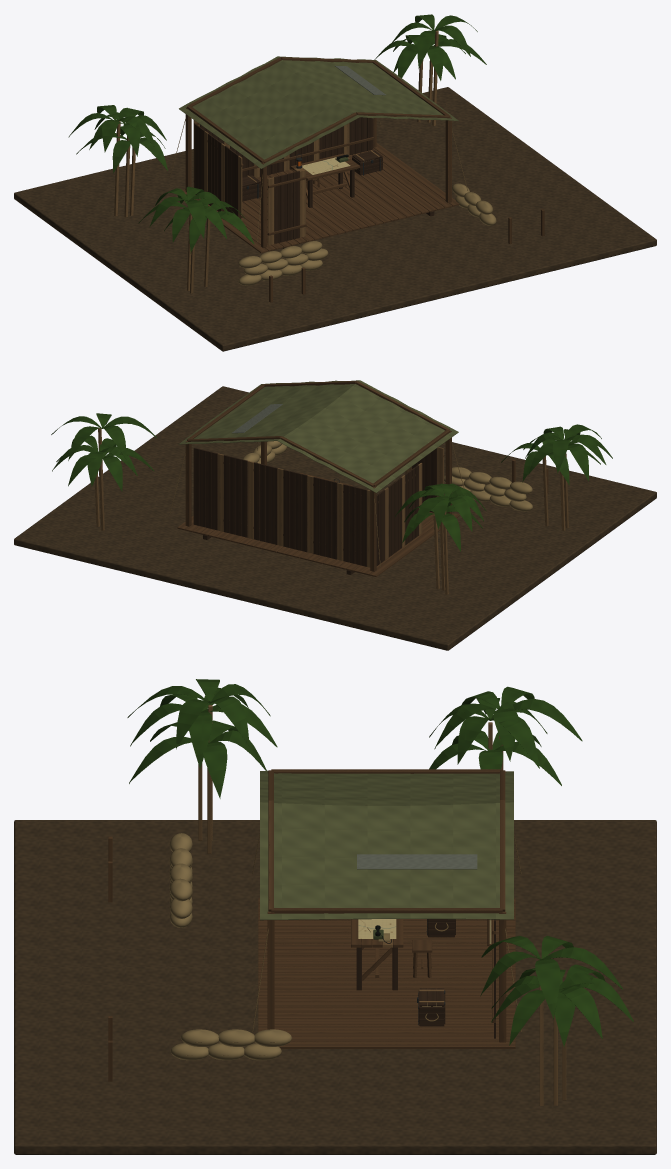
Rendered from C3_CommandOutpost.fbx.
3 renders of one model, top to bottom at view 1: azimuth 30°, elevation 25°; view 2: azimuth 150°, elevation 25°; view 3: azimuth 270°, elevation 25°, orthographic. The views are drawn at different scales.
Visible parts, largest first — view 1: Earth diorama base.002, Sagging canvas roof.002, Raised floor plank.073, Timber roof post.010, Raised floor plank.072, Timber roof post.009, Wall board.167, Raised floor plank.071; view 2: Earth diorama base.002, Sagging canvas roof.002, Raised floor plank.048, Timber roof post.011, Timber roof post.009, Wall board.140, Wall board.148, Wall board.149, Wall board.150, Wall board.141, Wall board.142, Wall board.147 (+26 smaller); view 3: Earth diorama base.002, Sagging canvas roof.002, Raised floor plank.073, Raised floor plank.072, Raised floor plank.061, Raised floor plank.069, Raised floor plank.065, Raised floor plank.057, Raised floor plank.070, Long eave rail.005, Raised floor plank.062, Raised floor plank.063 (+28 smaller).
Part boxes in pixels (x1,y1,x2,y2): Earth diorama base.002: (14, 87, 656, 351); Sagging canvas roof.002: (179, 56, 458, 168); Raised floor plank.073: (374, 143, 459, 206); Timber roof post.010: (445, 117, 451, 202); Raised floor plank.072: (367, 148, 452, 208); Timber roof post.009: (185, 107, 191, 191); Wall board.167: (267, 177, 274, 245); Raised floor plank.071: (360, 151, 444, 210); Earth diorama base.002: (14, 386, 656, 650); Sagging canvas roof.002: (178, 380, 458, 492); Raised floor plank.048: (369, 513, 459, 576); Timber roof post.011: (185, 441, 191, 526); Timber roof post.009: (370, 486, 376, 571); Wall board.140: (265, 465, 271, 543); Wall board.148: (217, 453, 223, 531); Wall board.149: (211, 452, 217, 530); Wall board.150: (205, 450, 211, 528); Wall board.141: (259, 463, 265, 541); Wall board.142: (253, 462, 259, 540); Wall board.147: (223, 455, 229, 533); Earth diorama base.002: (14, 820, 656, 1154); Sagging canvas roof.002: (260, 770, 513, 920); Raised floor plank.073: (279, 1041, 515, 1048); Raised floor plank.072: (290, 1035, 515, 1041); Raised floor plank.061: (258, 972, 515, 978); Raised floor plank.069: (258, 1018, 513, 1024); Raised floor plank.065: (258, 995, 515, 1001); Raised floor plank.057: (258, 949, 515, 955); Raised floor plank.070: (258, 1024, 512, 1029); Long eave rail.005: (271, 908, 502, 913); Raised floor plank.062: (258, 978, 515, 983); Raised floor plank.063: (258, 984, 515, 989).
Size of the model in its own units: 1230 by 330 by 1000.
14 materials, 14 textured.
